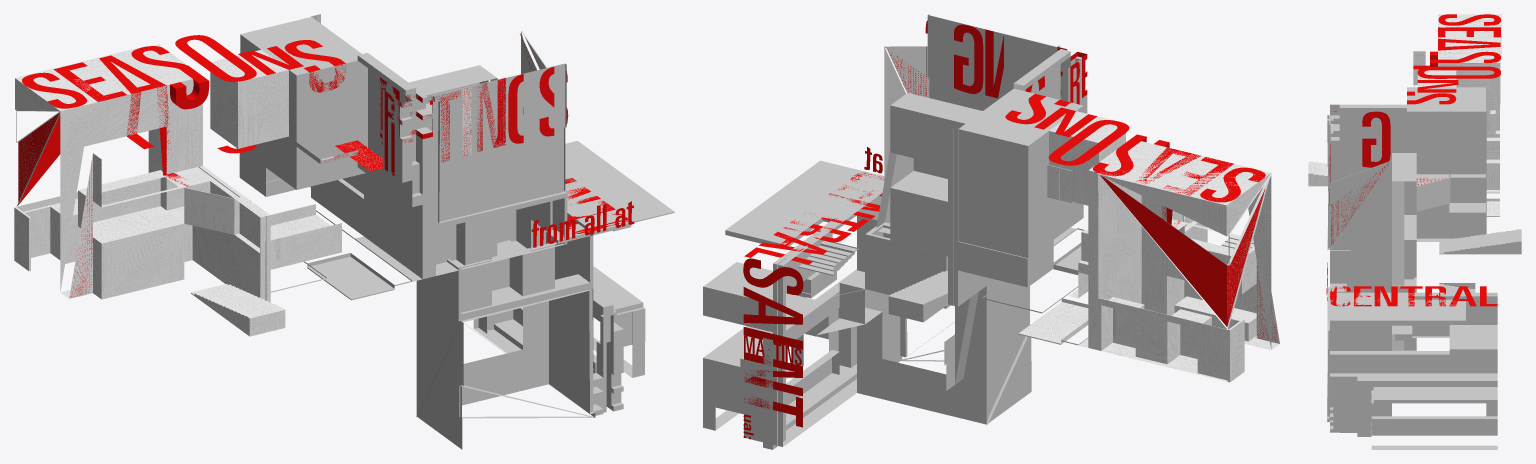
File: csm-8e.dae
3 views of the same model, side by side, from view 1: azimuth 30°, elevation 25°; view 2: azimuth 150°, elevation 25°; view 3: azimuth 270°, elevation 25° (orthographic). The views are drawn at different scales.
Visible parts, largest first — view 1: group_6 (×2), group_13 (×5), group_10, group_14, group_7, group_11, group_1, group_9, E, group_3, group_16, group_0 (+1 smaller); view 2: group_10, group_13 (×6), group_6 (×3), SAINT (×4), group_16, group_9, group_11, group_14, group_7, group_3, E, group_1; view 3: group_6 (×3), group_10, group_13 (×2), group_5, CENTRAL (×3), group_9, group_14, group_7, E, group_3, group_1, group_4.
Boxes of the visible parts, x1,y1,x2,y2 form: group_6 (×2): (239, 14, 567, 300); group_13 (×5): (14, 44, 341, 336); group_10: (416, 141, 674, 449); group_14: (99, 55, 188, 186); group_7: (131, 46, 209, 109); group_11: (477, 77, 505, 151); group_1: (284, 40, 345, 92); group_9: (175, 35, 252, 76); E: (54, 62, 126, 101); group_3: (238, 46, 303, 75); group_16: (508, 74, 523, 143); group_0: (462, 87, 471, 157); group_10: (703, 160, 1031, 449); group_13 (×6): (1018, 111, 1279, 382); group_6 (×3): (876, 15, 1087, 322); SAINT (×4): (743, 258, 803, 427); group_16: (954, 24, 983, 93); group_9: (1048, 125, 1124, 165); group_11: (985, 29, 1003, 98); group_14: (1136, 147, 1200, 226); group_7: (1093, 134, 1169, 176); group_3: (1034, 107, 1096, 136); E: (1164, 157, 1233, 195); group_1: (1005, 94, 1070, 124); group_6 (×3): (1327, 87, 1521, 287); group_10: (1326, 277, 1497, 449); group_13 (×2): (1308, 14, 1501, 216); group_5: (1362, 111, 1390, 167); CENTRAL (×3): (1374, 286, 1476, 306); group_9: (1432, 66, 1500, 78); group_14: (1413, 38, 1500, 69); group_7: (1430, 51, 1500, 66); E: (1438, 27, 1500, 37); group_3: (1417, 80, 1458, 92); group_1: (1407, 91, 1456, 104); group_4: (1457, 14, 1500, 25).
Bounding box in the file's own units: 208 × 102 × 137.
